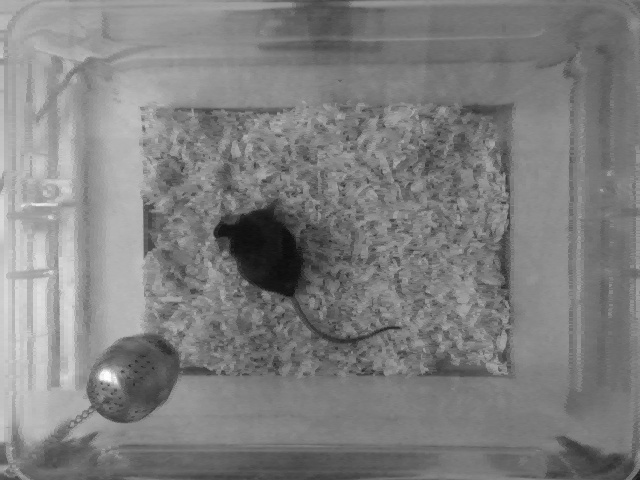mice: (212, 198, 402, 342)
